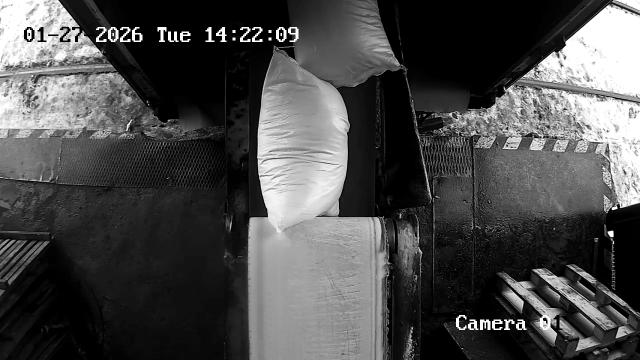bag: (258, 46, 349, 232), (289, 0, 404, 88)
